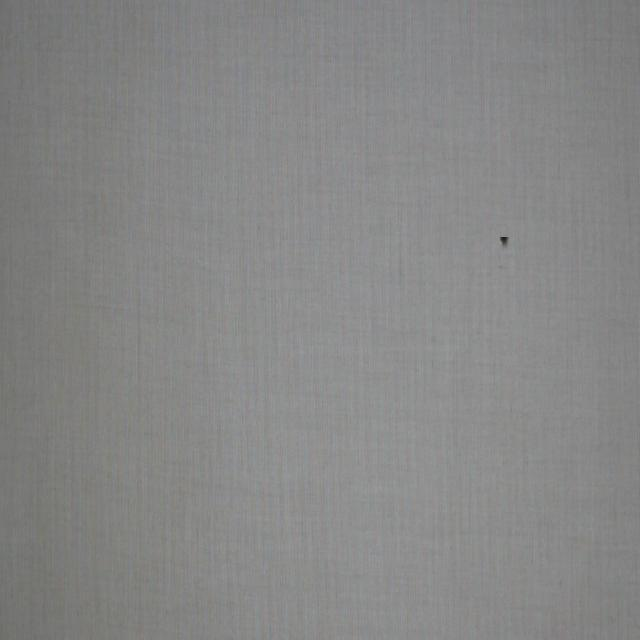dirty: (498, 232, 511, 250)
